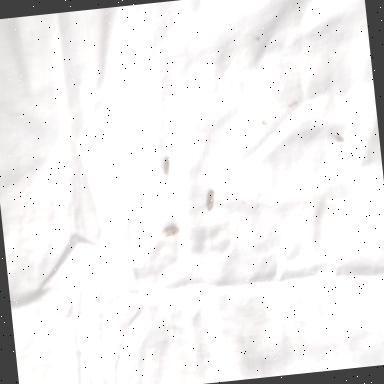pbw: (162, 224, 180, 238), (206, 188, 216, 212), (162, 154, 171, 177)
